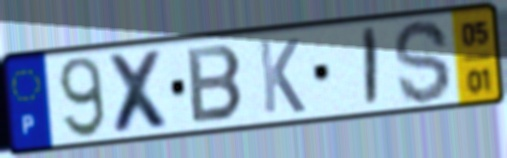9: (54, 54, 109, 141)
B: (184, 42, 247, 126)
I: (362, 24, 380, 111)
K: (255, 36, 308, 116)
S: (390, 16, 454, 107)
X: (104, 47, 177, 137)
